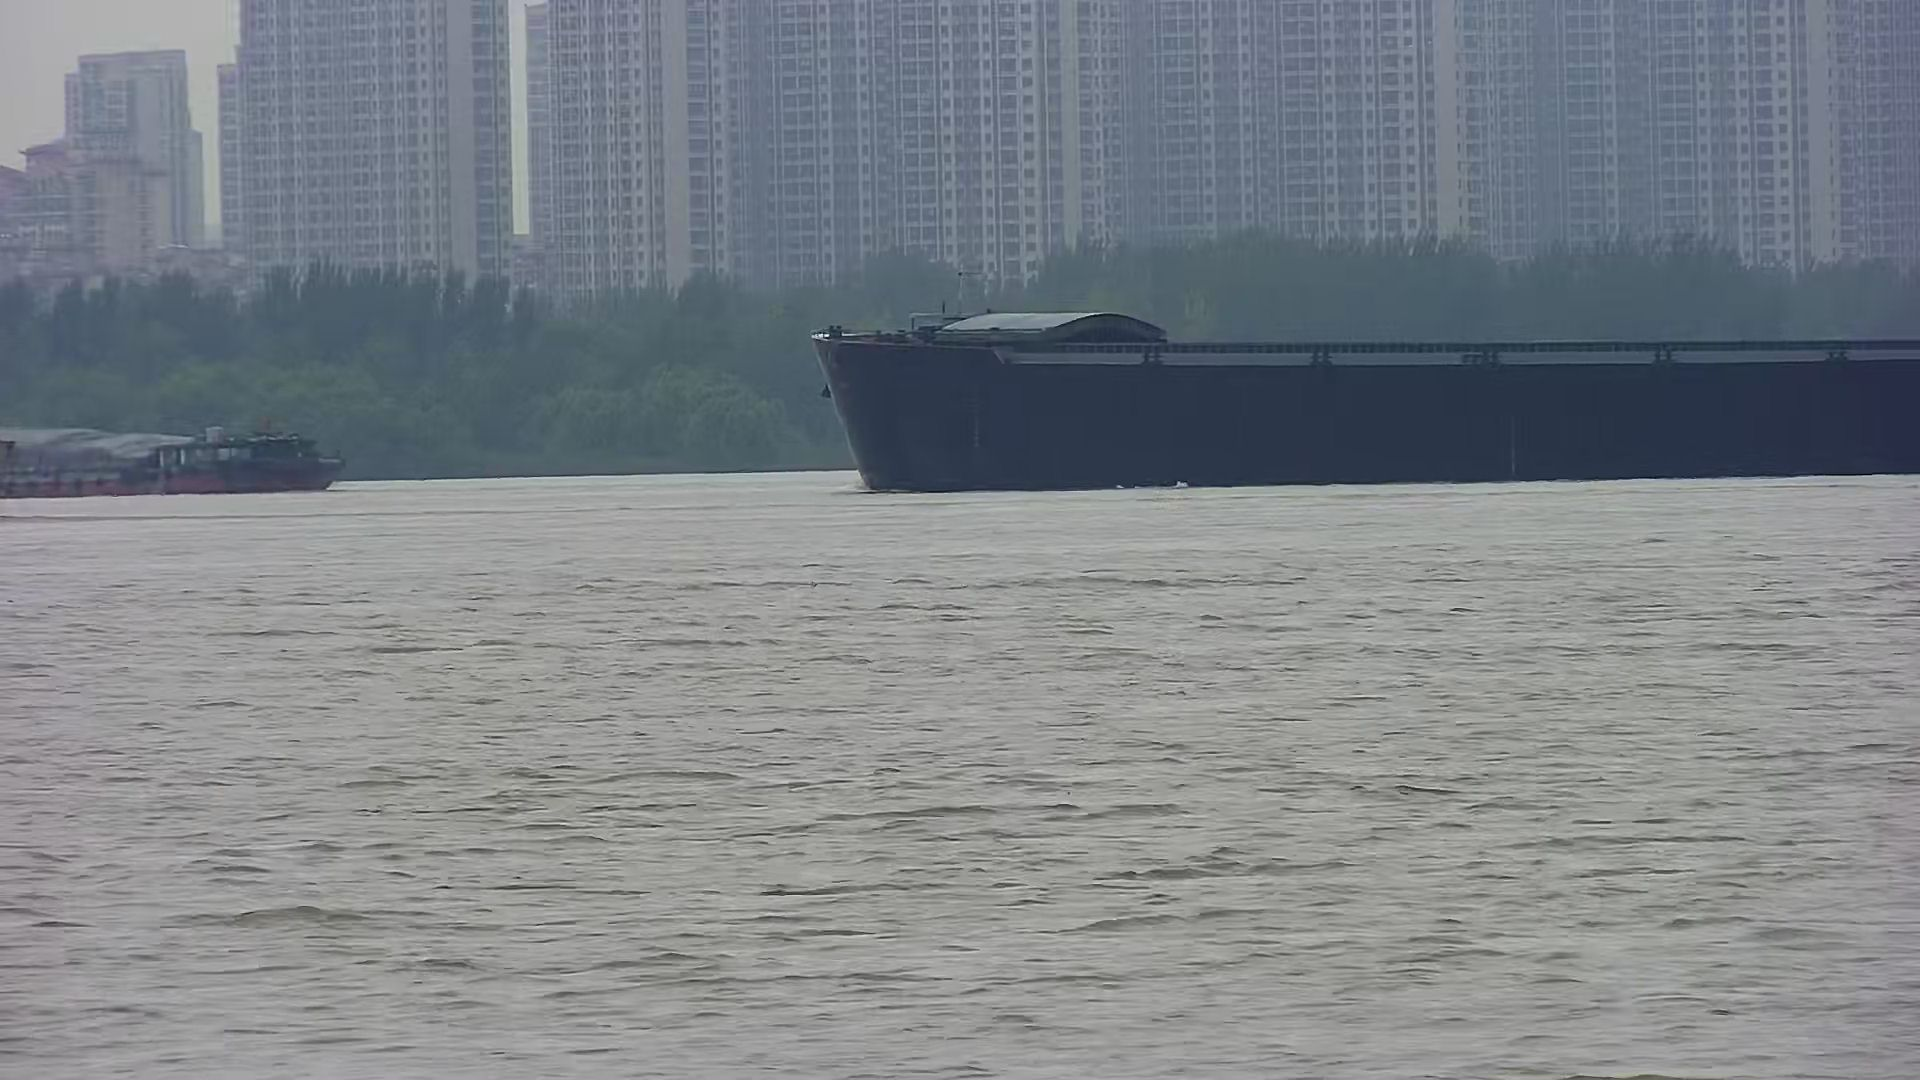ship: (808, 305, 1920, 495), (1, 426, 349, 498)
